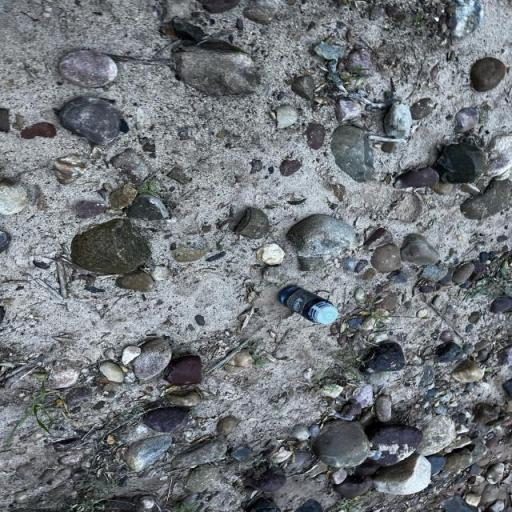bottle: (277, 286, 339, 324)
